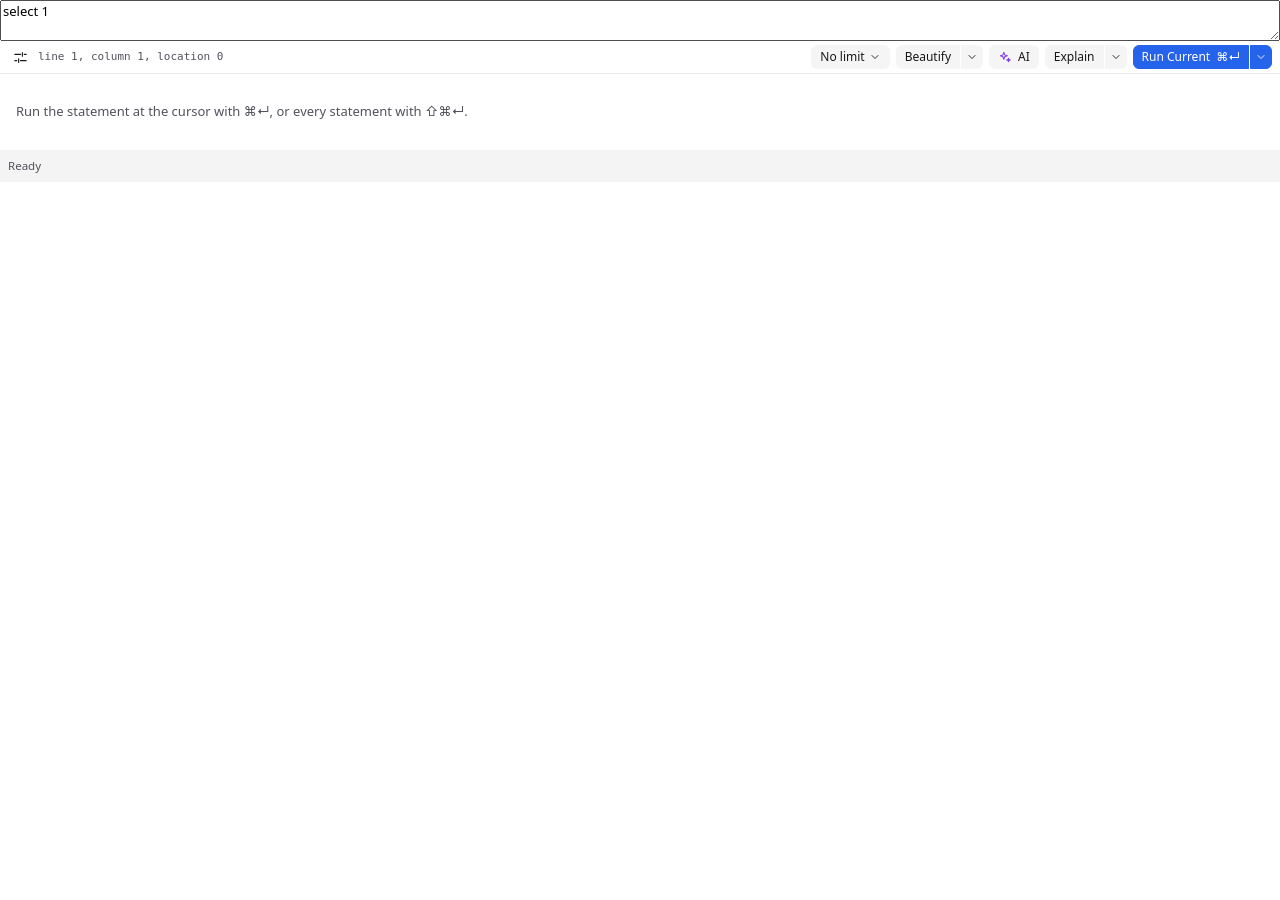
Test: adds the tab to Queries under the entered name
Click the button named "Run options". click: [1261, 57]
box: [1250,45,1272,69]
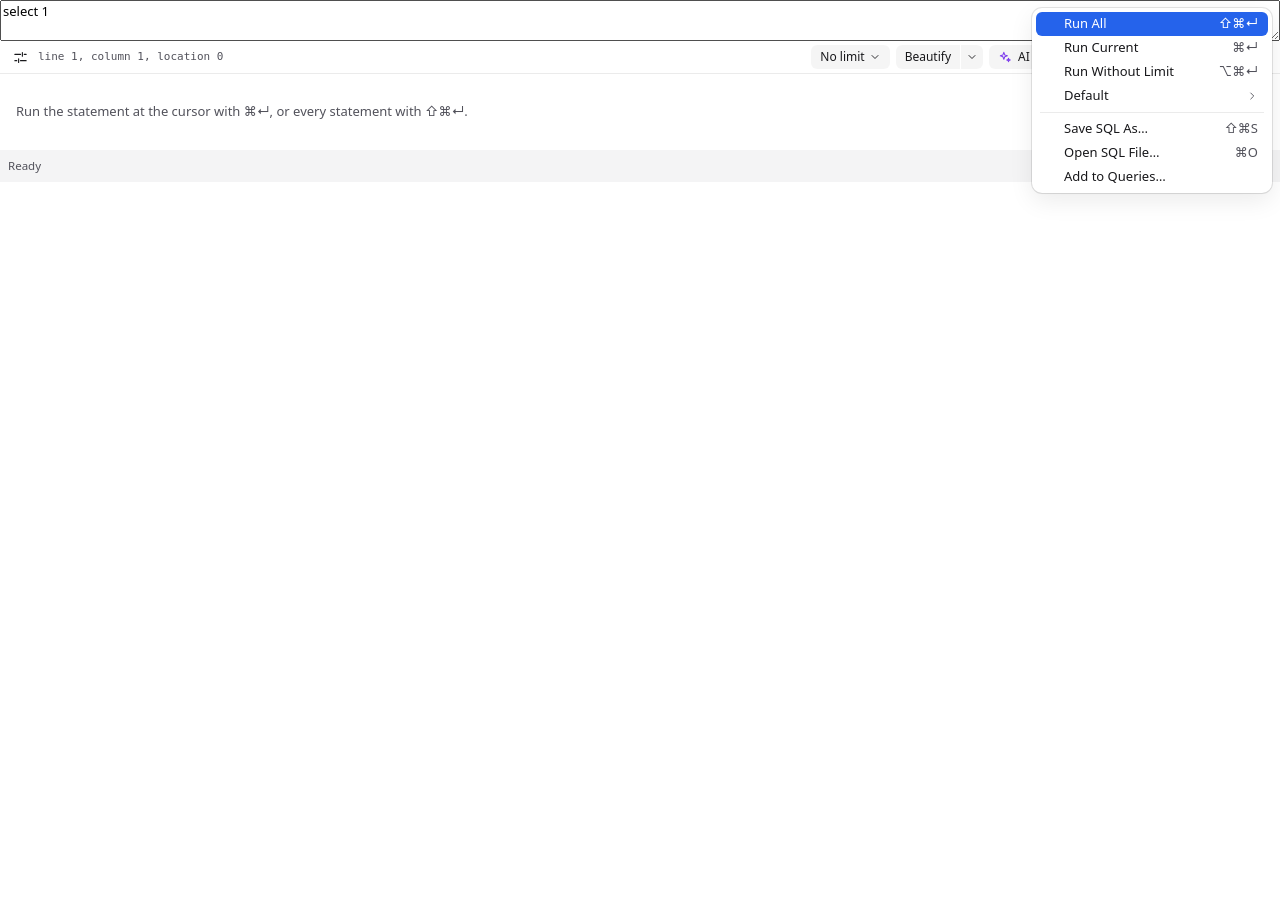
Click the menu item "Add to Queries…". click: [1152, 177]
box: [1036,165,1268,189]
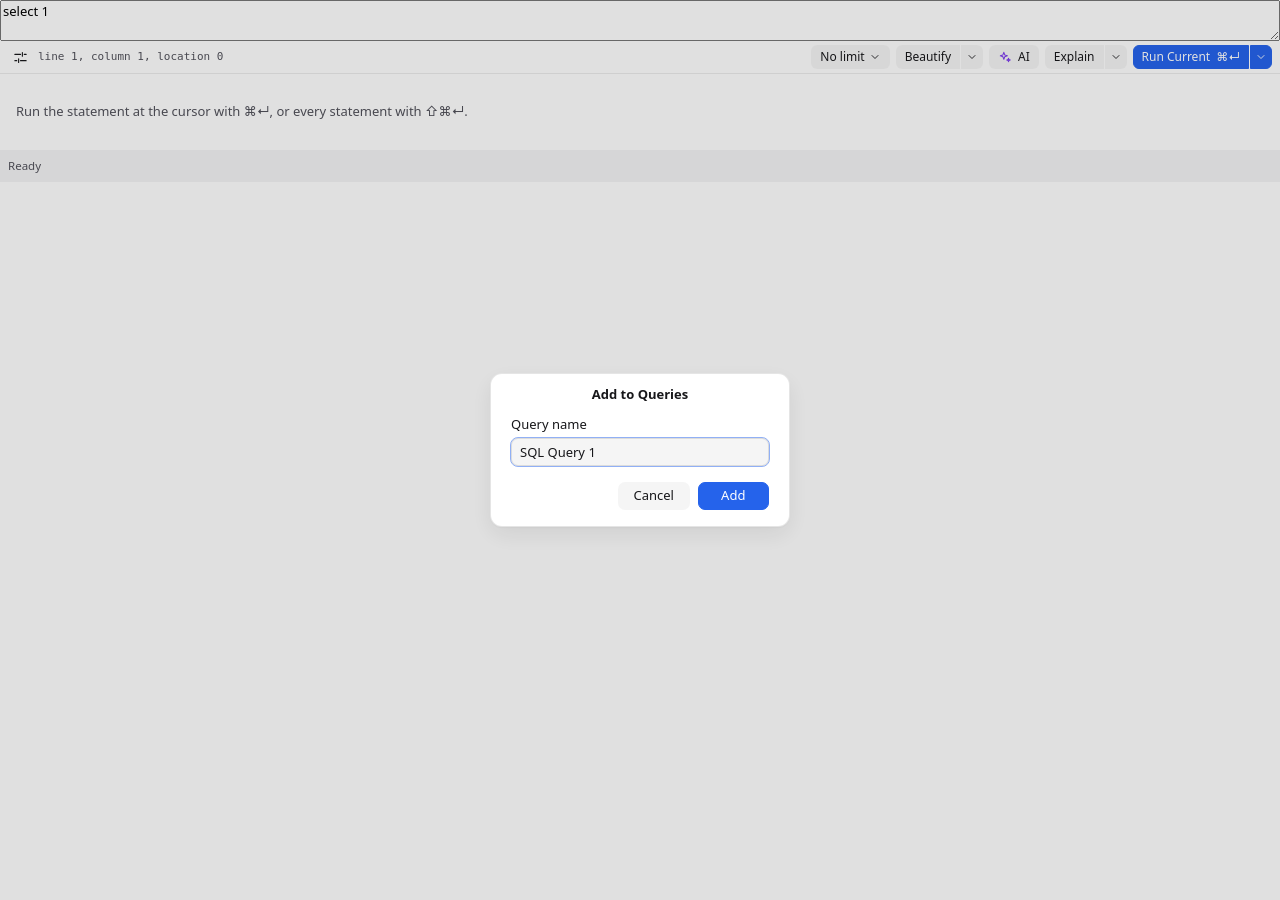
Check: the field labelled "Query name" holds "SQL Query 1"
Replace the text in the field labelled "Query name" with "Weekly". click: [640, 452]
box: [512,438,768,464]
Then press Enter
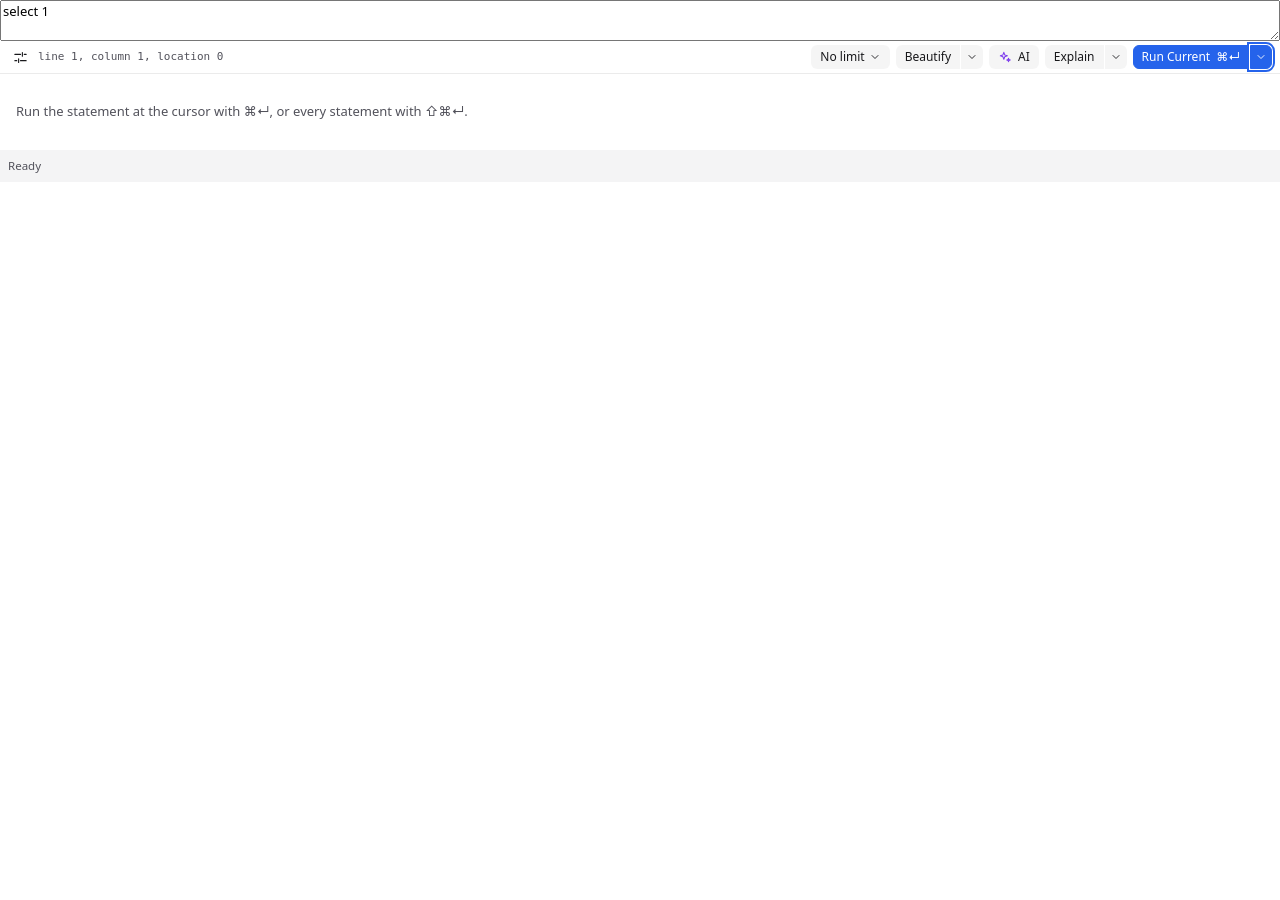
Check: the heading "Add to Queries" is gone
